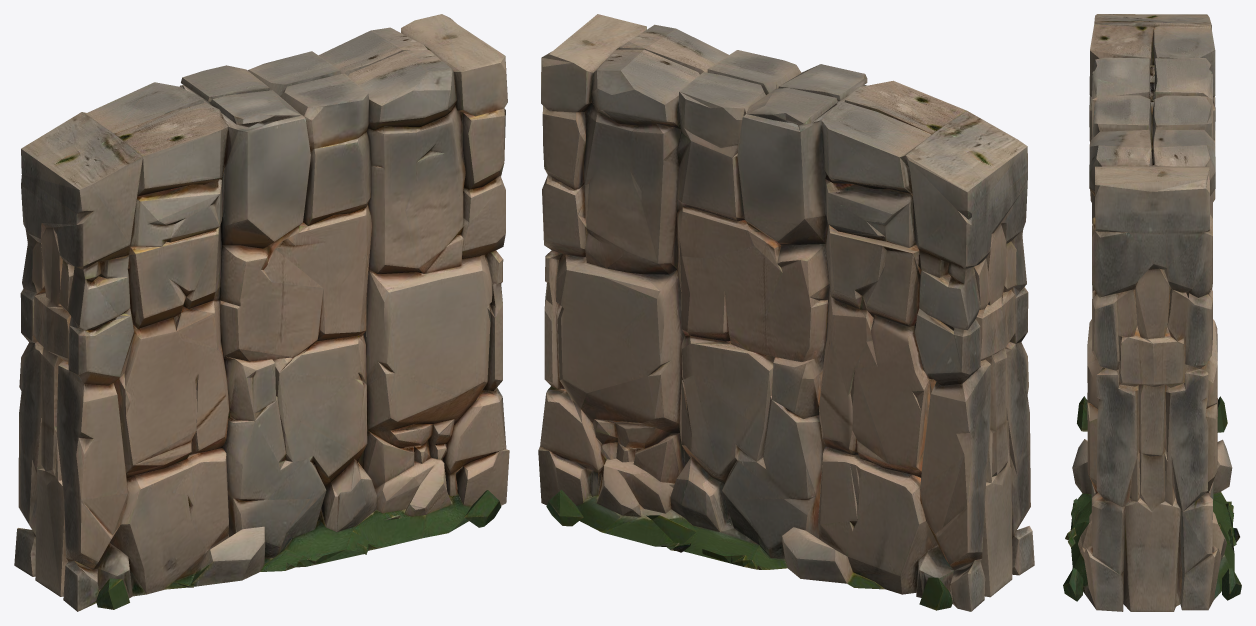
The model's file is Cliff.glb.
3 views of the same model, side by side, from view 1: azimuth 30°, elevation 25°; view 2: azimuth 150°, elevation 25°; view 3: azimuth 270°, elevation 25° (orthographic). The views are drawn at different scales.
Bounding box in the file's own units: 4 × 4 × 1.5.
1 material, 1 textured.
